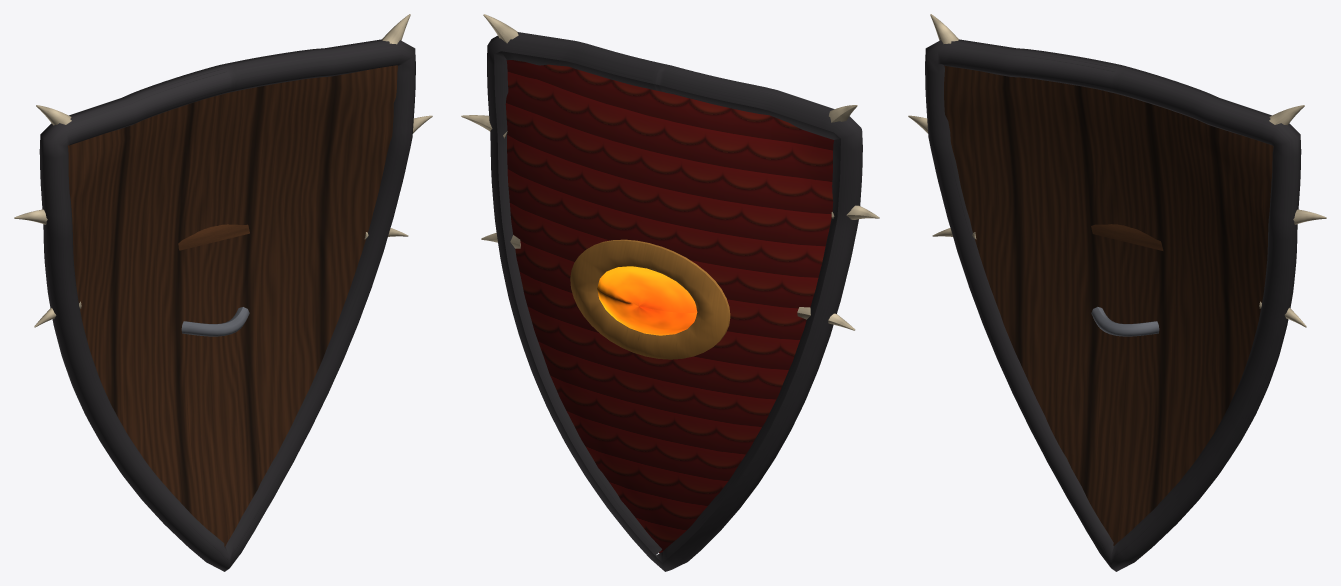
File: DragonscaleAegis.glb
3 views of the same model, side by side, from view 1: azimuth 30°, elevation 25°; view 2: azimuth 150°, elevation 25°; view 3: azimuth 330°, elevation 25° (orthographic).
Parts seen in each view (by area): view 1: DragonscaleAegis; view 2: DragonscaleAegis; view 3: DragonscaleAegis.
Part boxes in pixels (x1,y1,x2,y2): DragonscaleAegis: (14,14,432,571); DragonscaleAegis: (461,14,879,571); DragonscaleAegis: (908,14,1326,571).
Bounding box in the file's own units: 2.53 × 2.96 × 0.4521.
Materials: 1 (1 with a texture image).
